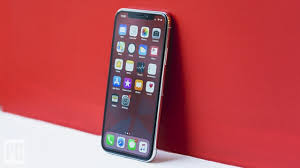iphone: (98, 6, 175, 163)
iphone10: (98, 4, 175, 161)
